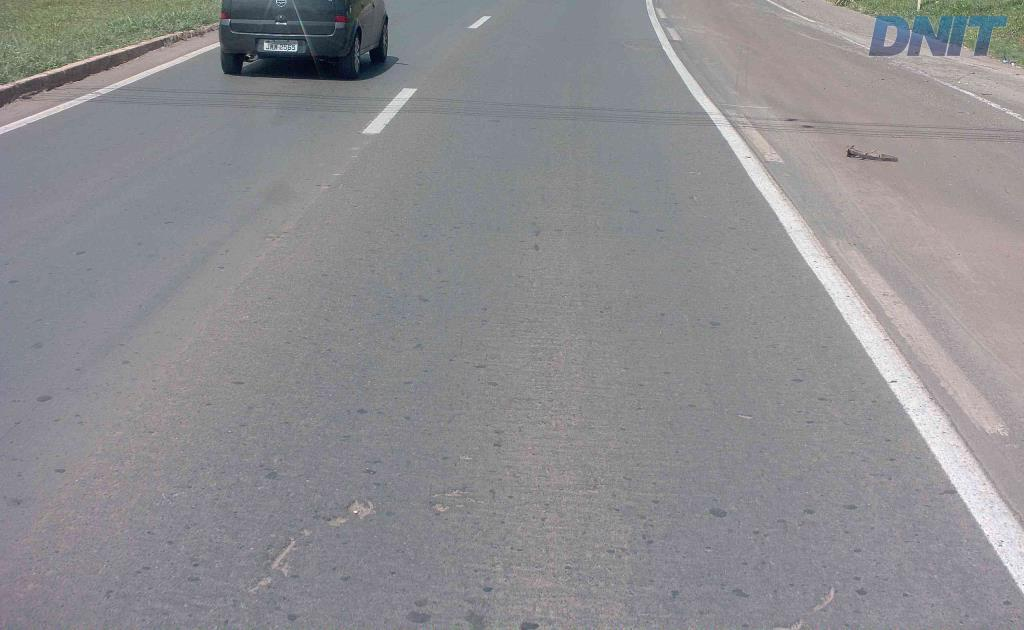pothole: (265, 536, 300, 581), (425, 486, 471, 514), (811, 578, 837, 612), (347, 495, 378, 523), (244, 576, 273, 597), (764, 617, 814, 628), (328, 512, 350, 527)
